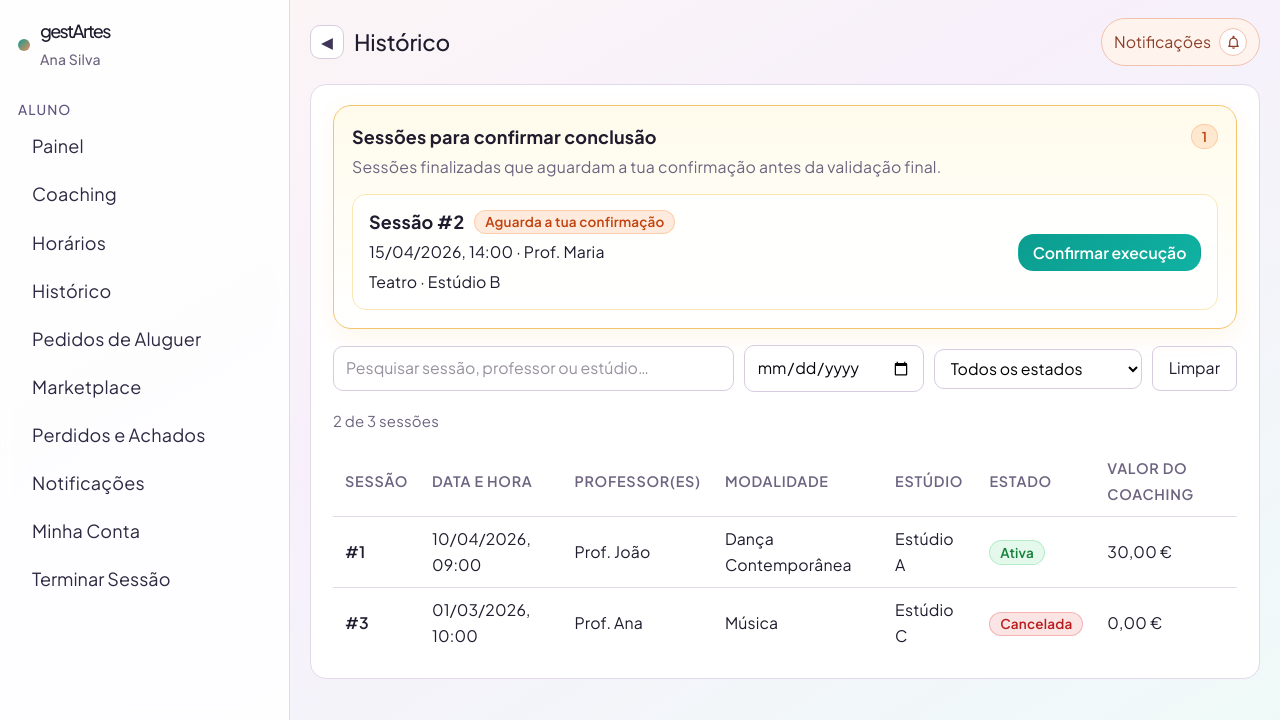
MyHistoryPage › opens confirm execution modal from the confirm button
Expected: the table with test id "history-table" is shown, [333,446,1237,658]
What coordinates should you click on to do the following:
click the button with test id "confirm-list-btn-2"
I would click on:
 (1110, 252)
Its box is [1018,234,1201,271].
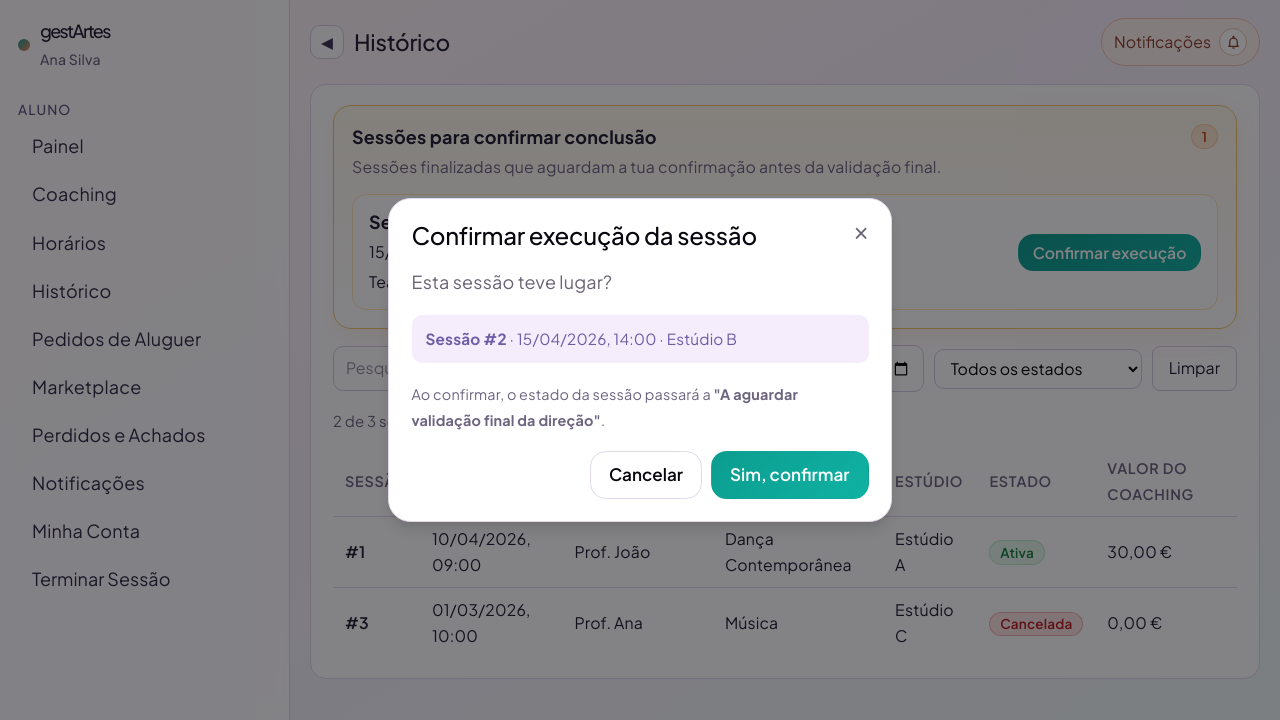
Result: the heading "Confirmar execução da sessão" is shown at [412,221,757,250]
